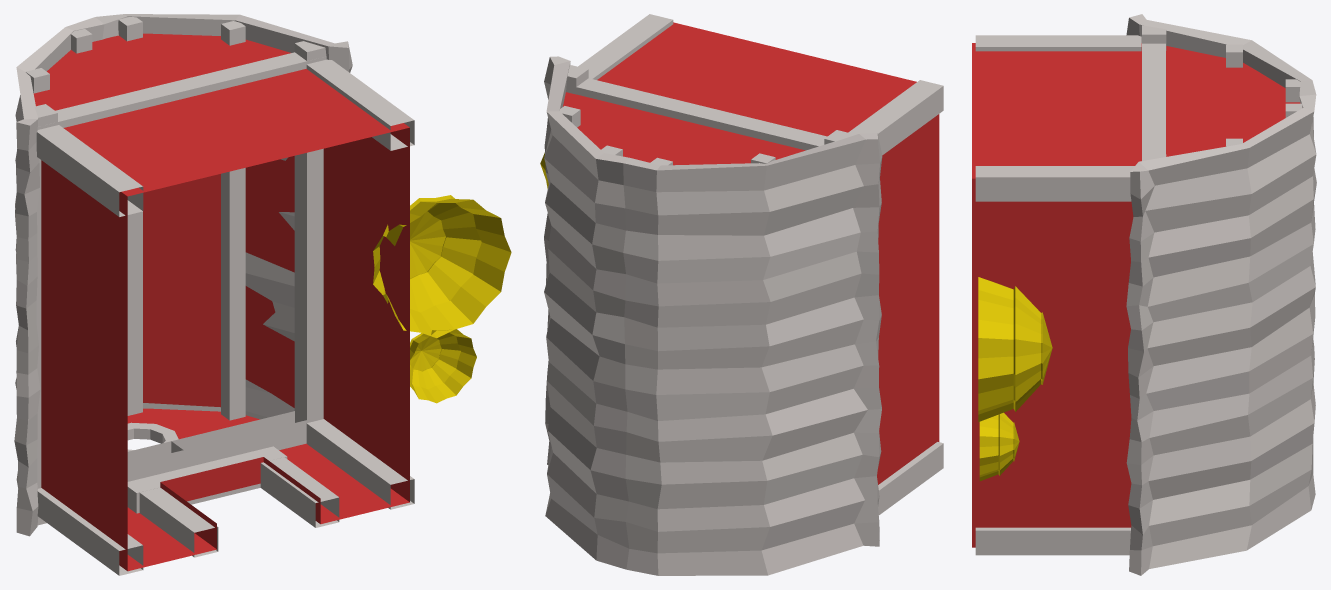
The model's file is Farm.fbx.
The picture shows the model from 3 angles, left to right: view 1: azimuth 30°, elevation 25°; view 2: azimuth 150°, elevation 25°; view 3: azimuth 270°, elevation 25°; orthographic projection.
Parts seen in each view (by area): view 1: Ferme; view 2: Ferme; view 3: Ferme.
Part boxes in pixels (box(x1,y1,x2,y2)): Ferme: box(14, 14, 511, 575); Ferme: box(540, 14, 943, 575); Ferme: box(972, 14, 1316, 575).
Size of the model in its own units: 107 by 101 by 78.05.
